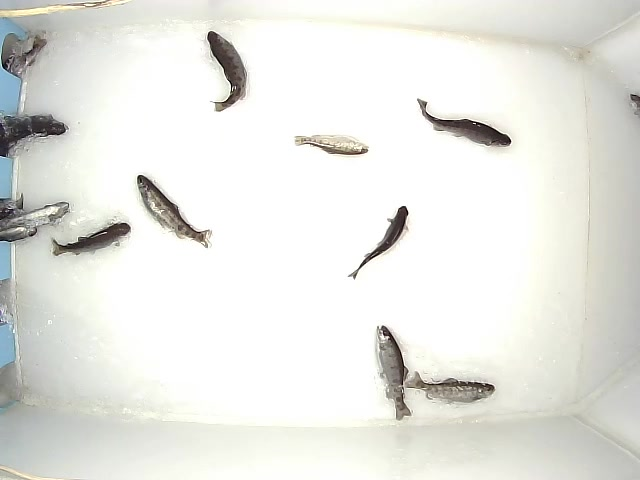fish: (136, 174, 212, 249), (416, 97, 512, 149), (347, 204, 409, 281), (374, 324, 412, 422), (206, 30, 248, 113), (404, 370, 496, 405), (49, 222, 132, 257), (292, 133, 371, 157)
